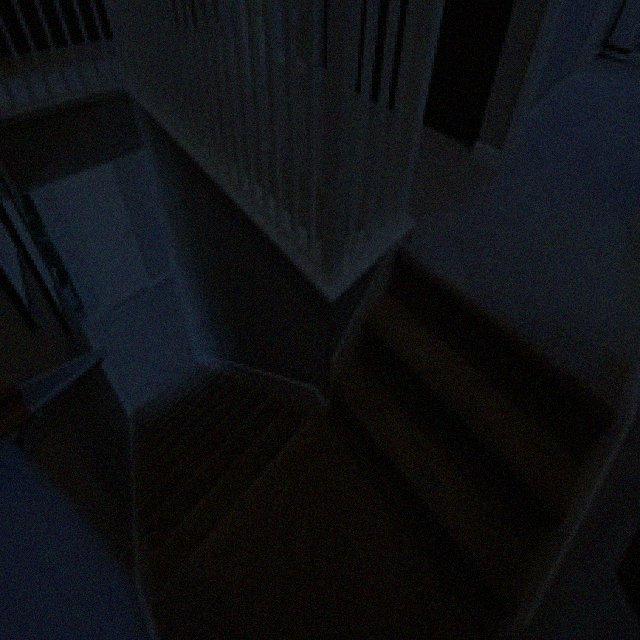stair: (134, 249, 623, 639)
